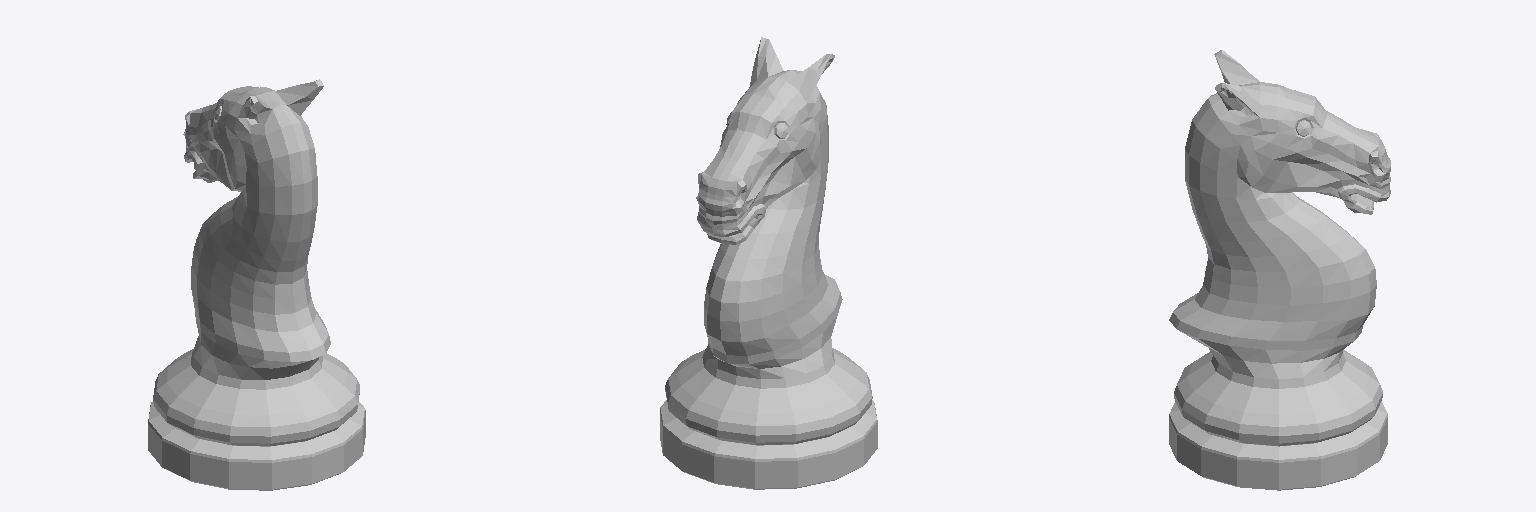
The model's file is ChessPieces_Knight.obj.
3 renders of one model, left to right at view 1: azimuth 30°, elevation 25°; view 2: azimuth 150°, elevation 25°; view 3: azimuth 270°, elevation 25°, orthographic.
Parts seen in each view (by area): view 1: Knight_Cylinder.002; view 2: Knight_Cylinder.002; view 3: Knight_Cylinder.002.
Part boxes in pixels (x1,y1,x2,y2): Knight_Cylinder.002: (148,79,365,490); Knight_Cylinder.002: (660,37,877,489); Knight_Cylinder.002: (1169,50,1390,490).
Size of the model in its own units: 0.3382 by 0.6437 by 0.3428.